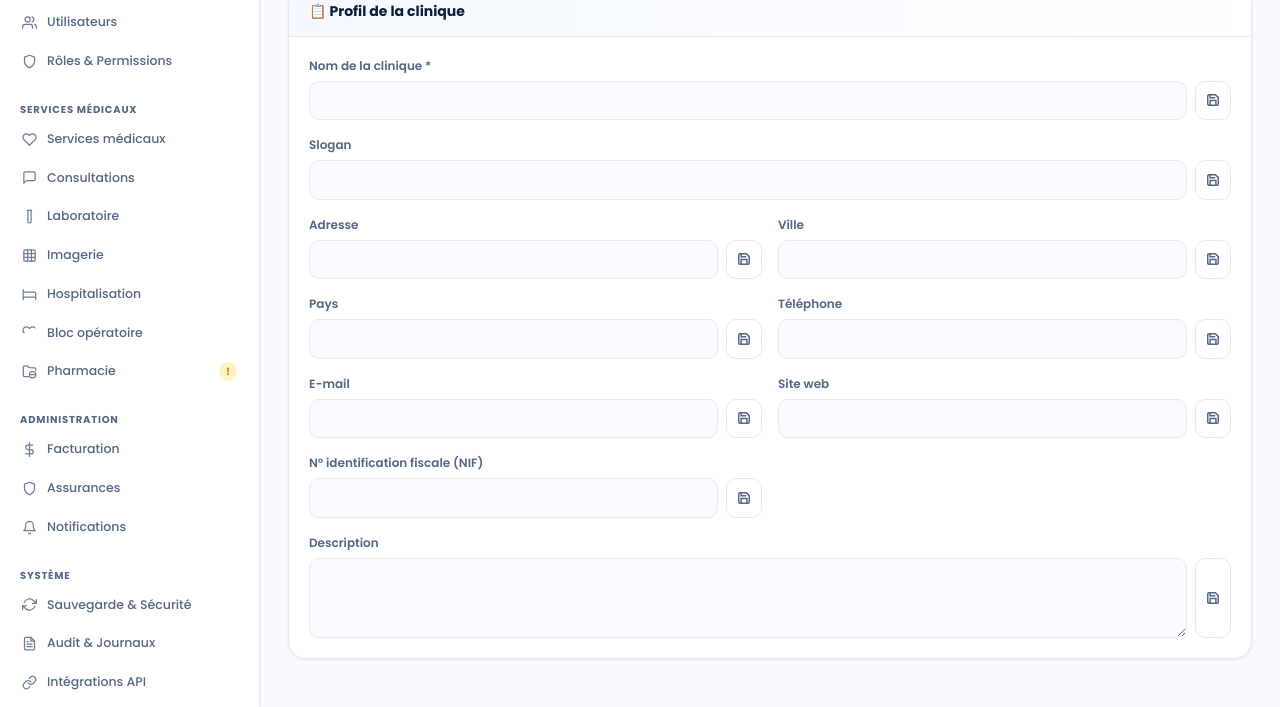
Scenario: Audit & Journaux interroge le vrai système d'audit (/audit), jamais /admin/logs
This screenshot has width=1280, height=707.
(page scrolled)
What coordinates should you click on to do the following:
click the button "Audit & Journaux"
I would click on:
 (130, 643)
Its box is [10, 625, 249, 662].
(page scrolled)
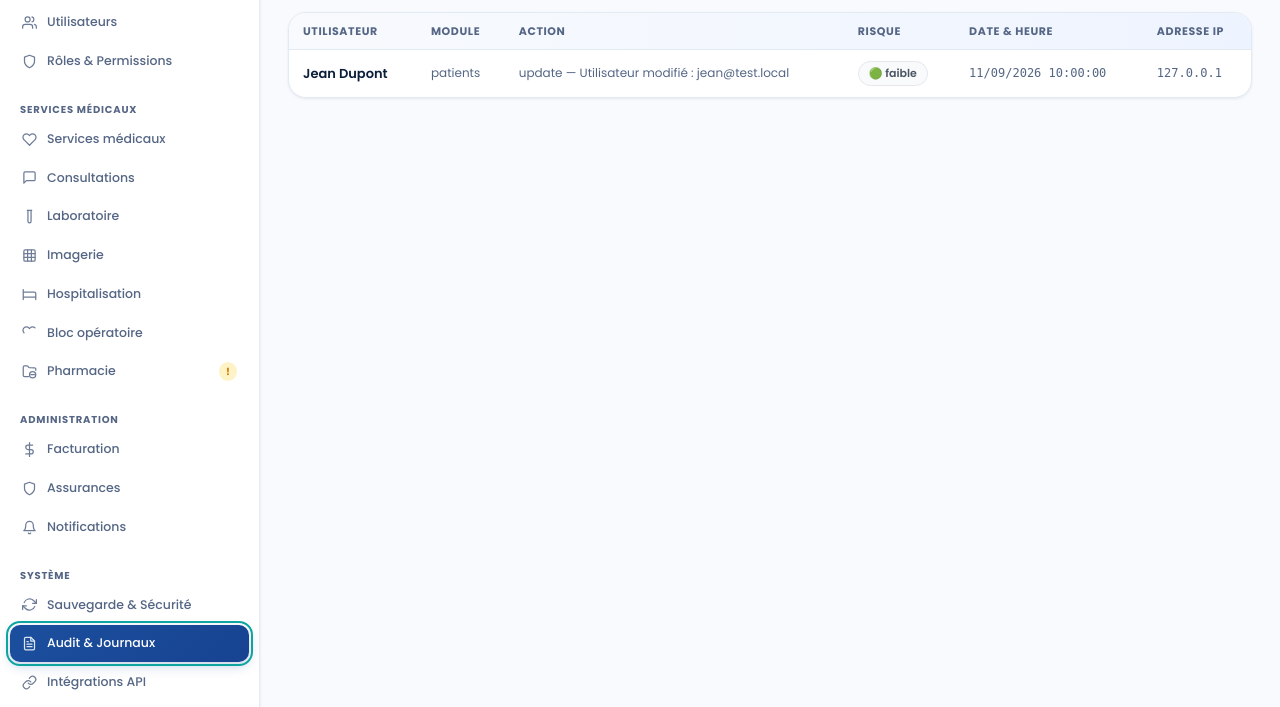
Expected: the text "Jean Dupont" is shown, [289, 50, 417, 96]
Expected: the text "patients" is shown, [417, 50, 505, 96]
